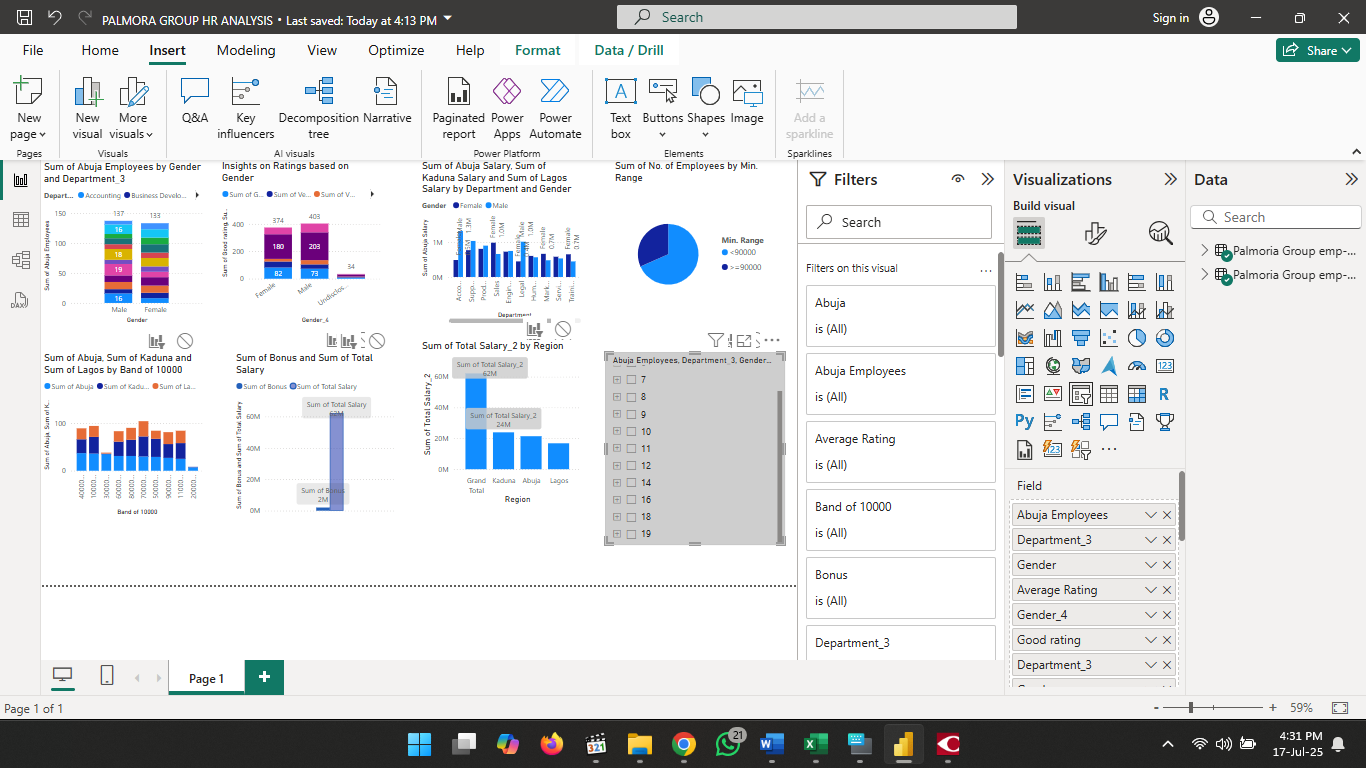

What the dashboard file says about the page in this screenshot:
{"tool":"powerbi","page":{"name":"Page 1","canvas":[1280,720],"ordinal":0},"visuals":[{"type":"columnChart","fields":{"Category":["Palmoria Group emp-Cleaned data.Gender "],"Series":["Palmoria Group emp-Cleaned data.Department_3"],"Y":["Sum(Palmoria Group emp-Cleaned data.Abuja Employees)"]},"box":[0,1.7,279.4,279.4],"z":0},{"type":"columnChart","title":"Insights on Ratings based on Gender","fields":{"Category":["Palmoria Group emp-Cleaned data.Gender_4"],"Y":["Sum(Palmoria Group emp-Cleaned data.Good rating)","Sum(Palmoria Group emp-Cleaned data.Very good rating)","Sum(Palmoria Group emp-Cleaned data.Very Poor rating)","Sum(Palmoria Group emp-Cleaned data.Average Rating)","Sum(Palmoria Group emp-Cleaned data.Poor rating)"]},"box":[301.4,0,279.4,281.1],"z":1000},{"type":"clusteredColumnChart","fields":{"Category":["Palmoria Group emp-Cleaned data.Department_3"],"Series":["Palmoria Group emp-Cleaned data.Gender "],"Y":["Sum(Palmoria Group emp-Cleaned data.Abuja Salary)"]},"box":[640,0,279.4,281.1],"z":2000},{"type":"pieChart","fields":{"Category":["Palmoria Group emp-Cleaned data.Min. Range"],"Y":["Sum(Palmoria Group emp-Cleaned data.No. of Employees)"]},"box":[966.8,0,279.4,281.1],"z":3000},{"type":"columnChart","fields":{"Category":["Palmoria Group emp-Cleaned data (2).Band of 10000"],"Y":["Sum(Palmoria Group emp-Cleaned data (2).Abuja)","Sum(Palmoria Group emp-Cleaned data (2).Kaduna)","Sum(Palmoria Group emp-Cleaned data (2).Lagos)"]},"box":[0,325.1,279.4,281.1],"z":4000},{"type":"clusteredColumnChart","fields":{"Y":["Sum(Palmoria Group emp-Cleaned data.Bonus)","Sum(Palmoria Group emp-Cleaned data.Total Salary)"]},"box":[325.1,325.1,279.4,282.8],"z":5000},{"type":"columnChart","fields":{"Category":["Palmoria Group emp-Cleaned data (2).Location_1"],"Y":["Sum(Palmoria Group emp-Cleaned data (2).Total Salary_2)"]},"box":[640,304.8,279.4,282.8],"z":6000},{"type":"slicer","fields":{"Values":["Palmoria Group emp-Cleaned data.Abuja Employees","Palmoria Group emp-Cleaned data.Department_3","Palmoria Group emp-Cleaned data.Gender ","Palmoria Group emp-Cleaned data.Average Rating","Palmoria Group emp-Cleaned data.Gender_4","Palmoria Group emp-Cleaned data.Good rating","Palmoria Group emp-Cleaned data.Department_3","Palmoria Group emp-Cleaned data.Gender ","Palmoria Group emp-Cleaned data.Kaduna Salary","Palmoria Group emp-Cleaned data.Lagos Salary","Palmoria Group emp-Cleaned data.Min. Range","Palmoria Group emp-Cleaned data.No. of Employees"]},"box":[954.9,301.4,304.8,326.8],"z":7000}]}

Visuals, with their boxes on the page's 1280x720 design canvas (x1, y1, x2, y2). These are canvas units, not pixel positions in the 1366x768 screenshot, which may show the page scaled, cropped or inside an application window:
columnChart - Palmoria Group emp-Cleaned data.Gender  x Palmoria Group emp-Cleaned data.Department_3: (0,2,279,281)
"Insights on Ratings based on Gender" columnChart: (301,0,581,281)
clusteredColumnChart - Palmoria Group emp-Cleaned data.Department_3 x Palmoria Group emp-Cleaned data.Gender : (640,0,919,281)
pieChart - Palmoria Group emp-Cleaned data.Min. Range x Sum(Palmoria Group emp-Cleaned data.No. of Employees): (967,0,1246,281)
columnChart - Palmoria Group emp-Cleaned data (2).Band of 10000 x Sum(Palmoria Group emp-Cleaned data (2).Abuja): (0,325,279,606)
clusteredColumnChart - Sum(Palmoria Group emp-Cleaned data.Bonus) x Sum(Palmoria Group emp-Cleaned data.Total Salary): (325,325,604,608)
columnChart - Palmoria Group emp-Cleaned data (2).Location_1 x Sum(Palmoria Group emp-Cleaned data (2).Total Salary_2): (640,305,919,588)
slicer - Palmoria Group emp-Cleaned data.Abuja Employees x Palmoria Group emp-Cleaned data.Department_3: (955,301,1260,628)
